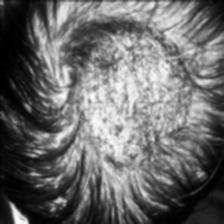Toxin: (73, 28, 188, 176)
